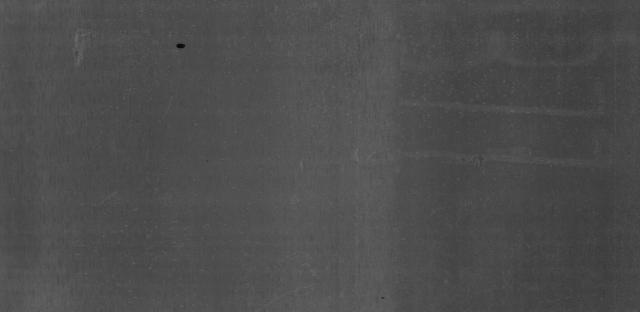inclusion: (170, 39, 190, 53)
